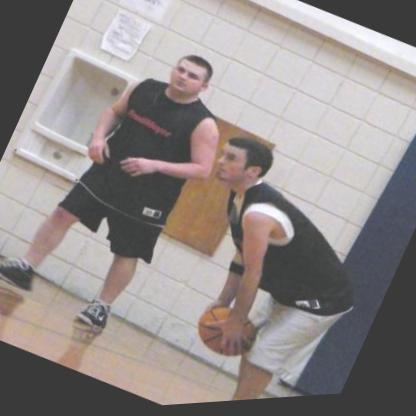basketball: (190, 298, 265, 371)
